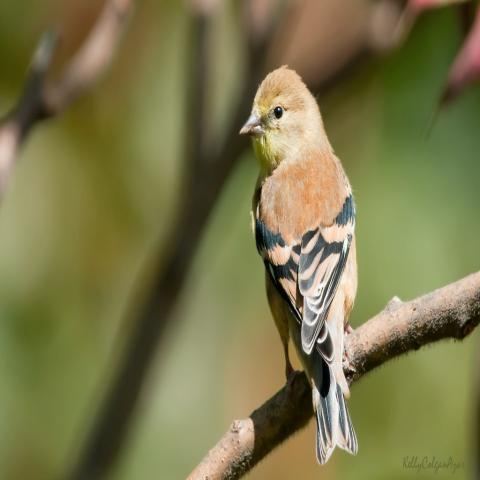bird: (236, 62, 360, 466)
